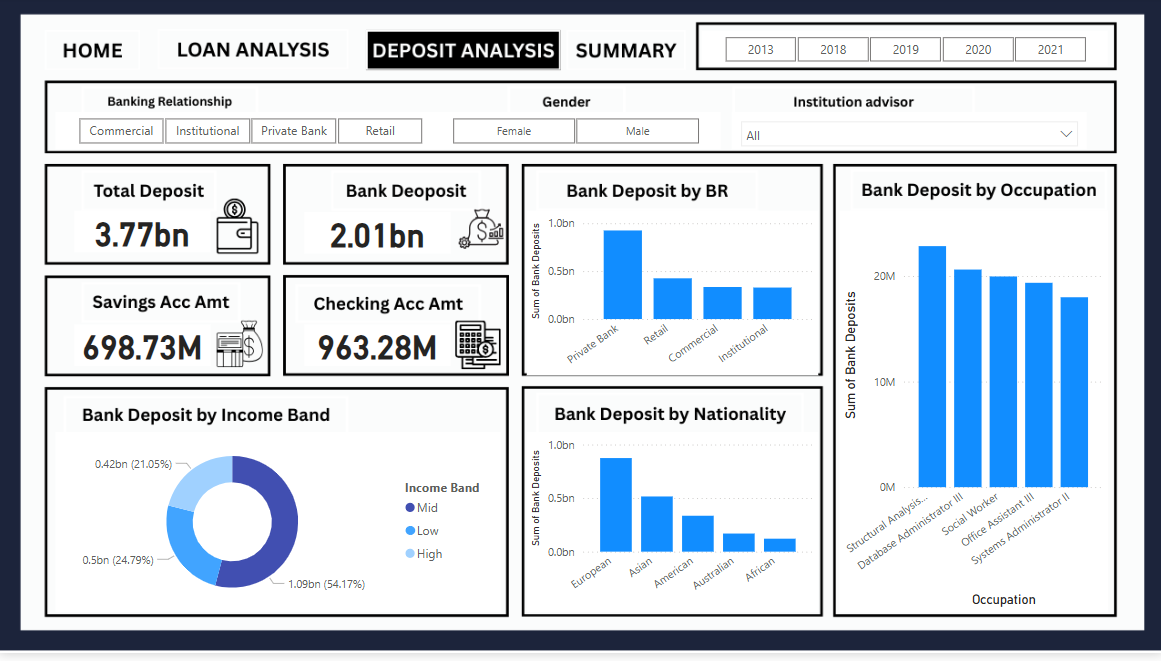

Layout of this report page (visuals, bound fields, positions):
{"tool":"powerbi","page":{"name":"Deposit Analysis","canvas":[1280,720],"ordinal":2},"visuals":[{"type":"actionButton","box":[52.1,35.7,100.2,49.4],"z":0},{"type":"actionButton","box":[391.1,35.7,211.3,39.8],"z":1000},{"type":"actionButton","box":[621.6,39.8,129,39.8],"z":2000},{"type":"slicer","fields":{"Values":["Banking_Clients.year of joining"]},"box":[772.6,37,446,38.4],"z":3000},{"type":"card","fields":{"Values":["Banking_Clients.Total Deposit"]},"box":[83.7,234.6,149.6,45.3],"z":4000},{"type":"card","fields":{"Values":["Sum(Banking_Clients.Bank Deposits)"]},"box":[336.2,236,160.5,45.3],"z":5000},{"type":"card","fields":{"Values":["Sum(Banking_Clients.Saving Accounts)"]},"box":[83.7,359.5,149.6,45.3],"z":6000},{"type":"card","fields":{"Values":["Sum(Banking_Clients.Checking Accounts)"]},"box":[336.2,359.5,160.5,45.3],"z":7000},{"type":"donutChart","fields":{"Category":["Banking_Clients.Income Band"],"Y":["Sum(Banking_Clients.Bank Deposits)"]},"box":[63.1,477.5,488.5,197.6],"z":8000},{"type":"columnChart","fields":{"Category":["Banking_Clients.BRId"],"Y":["Sum(Banking_Clients.Bank Deposits)"]},"box":[580.4,234.6,319.7,181.1],"z":9000},{"type":"columnChart","fields":{"Category":["Banking_Clients.Nationality"],"Y":["Sum(Banking_Clients.Bank Deposits)"]},"box":[580.4,477.5,319.7,197.6],"z":10000},{"type":"columnChart","fields":{"Category":["Banking_Clients.Occupation"],"Y":["Sum(Banking_Clients.Bank Deposits)"]},"box":[923.5,234.6,295,440.5],"z":11000},{"type":"slicer","fields":{"Values":["Banking_Clients.BRId"]},"box":[63.1,126.2,426.8,41.2],"z":12000},{"type":"slicer","fields":{"Values":["Banking_Clients.GenderId"]},"box":[473.4,126.2,319.7,41.2],"z":13000},{"type":"slicer","fields":{"Values":["Banking_Clients.IAId"]},"box":[805.5,126.2,389.7,41.2],"z":14000},{"type":"actionButton","box":[193.5,39.8,172.9,39.8],"z":15000}]}

Visuals, with their boxes in screenshot pixels (x1, y1, x2, y2), scaled from the page's 1280x720 canvas onto the 1161x661 screenshot:
actionButton: [left=47, top=33, right=138, bottom=78]
actionButton: [left=355, top=33, right=546, bottom=69]
actionButton: [left=564, top=37, right=681, bottom=73]
slicer - Banking_Clients.year of joining: [left=701, top=34, right=1105, bottom=69]
card - Banking_Clients.Total Deposit: [left=76, top=215, right=212, bottom=257]
card - Sum(Banking_Clients.Bank Deposits): [left=305, top=217, right=451, bottom=258]
card - Sum(Banking_Clients.Saving Accounts): [left=76, top=330, right=212, bottom=372]
card - Sum(Banking_Clients.Checking Accounts): [left=305, top=330, right=451, bottom=372]
donutChart - Banking_Clients.Income Band x Sum(Banking_Clients.Bank Deposits): [left=57, top=438, right=500, bottom=620]
columnChart - Banking_Clients.BRId x Sum(Banking_Clients.Bank Deposits): [left=526, top=215, right=816, bottom=382]
columnChart - Banking_Clients.Nationality x Sum(Banking_Clients.Bank Deposits): [left=526, top=438, right=816, bottom=620]
columnChart - Banking_Clients.Occupation x Sum(Banking_Clients.Bank Deposits): [left=838, top=215, right=1105, bottom=620]
slicer - Banking_Clients.BRId: [left=57, top=116, right=444, bottom=154]
slicer - Banking_Clients.GenderId: [left=429, top=116, right=719, bottom=154]
slicer - Banking_Clients.IAId: [left=731, top=116, right=1084, bottom=154]
actionButton: [left=176, top=37, right=332, bottom=73]
